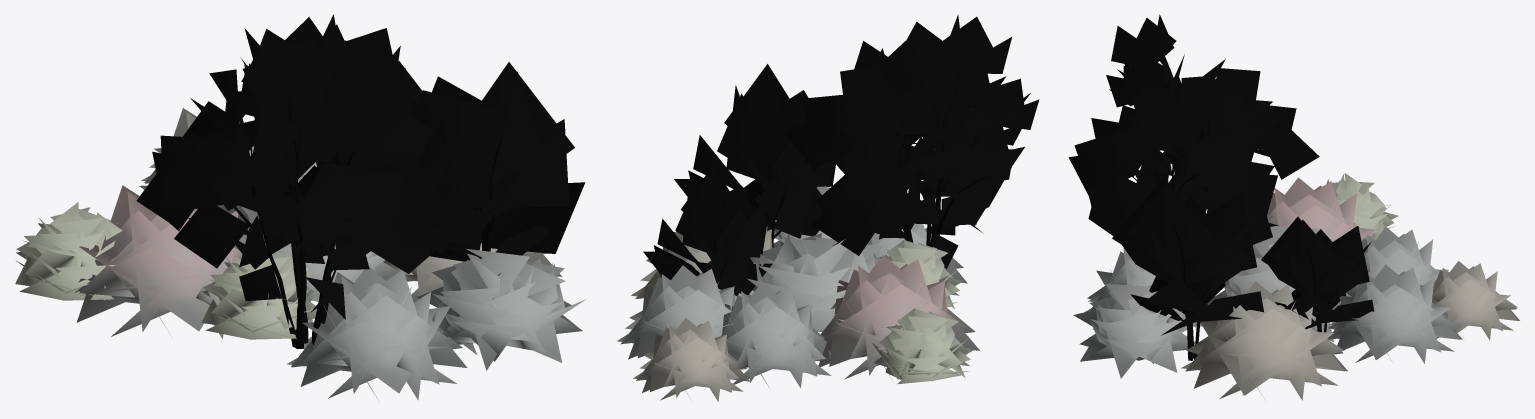
3 views of the same model, side by side, from view 1: azimuth 30°, elevation 25°; view 2: azimuth 150°, elevation 25°; view 3: azimuth 270°, elevation 25° (orthographic). The views are drawn at different scales.
Parts seen in each view (by area): view 1: G:\FFXIV-MapTools\exports\s1f1\bg\ffxiv\sea_s1\fld\s1f1\bgpa (×3); view 2: G:\FFXIV-MapTools\exports\s1f1\bg\ffxiv\sea_s1\fld\s1f1\bgpa (×3); view 3: G:\FFXIV-MapTools\exports\s1f1\bg\ffxiv\sea_s1\fld\s1f1\bgpa (×3).
Part boxes in pixels (x1,y1,x2,y2): G:\FFXIV-MapTools\exports\s1f1\bg\ffxiv\sea_s1\fld\s1f1\bgpa (×3): (15,14,586,400); G:\FFXIV-MapTools\exports\s1f1\bg\ffxiv\sea_s1\fld\s1f1\bgpa (×3): (617,14,1039,401); G:\FFXIV-MapTools\exports\s1f1\bg\ffxiv\sea_s1\fld\s1f1\bgpa (×3): (1068,14,1519,400).
Size of the model in its own units: 28.57 by 20.98 by 31.62.
